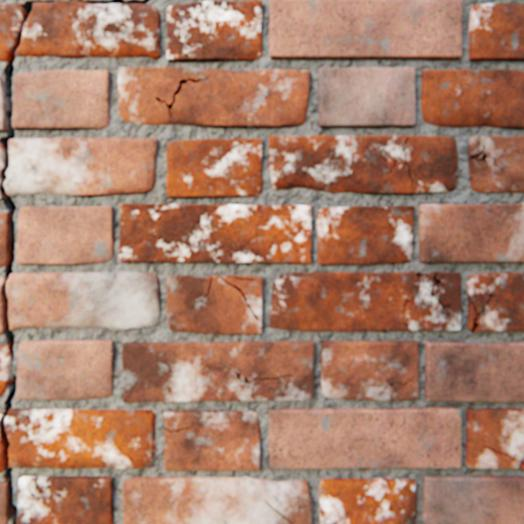brick: (123, 340, 313, 401), (269, 407, 460, 467), (269, 0, 461, 59), (270, 271, 460, 330), (119, 68, 308, 127), (120, 204, 311, 262), (268, 136, 456, 193), (123, 475, 311, 523), (418, 203, 523, 261), (420, 70, 523, 128), (424, 341, 523, 401), (320, 340, 417, 400), (17, 339, 114, 398), (164, 409, 259, 469), (318, 68, 414, 127), (13, 71, 109, 129), (167, 2, 261, 61), (316, 206, 413, 263), (17, 206, 114, 263), (167, 139, 262, 197), (167, 275, 262, 333), (422, 474, 523, 523), (17, 475, 113, 523), (319, 477, 415, 523), (465, 407, 523, 468), (466, 272, 523, 330), (467, 136, 523, 193), (468, 4, 523, 61), (0, 212, 10, 266), (0, 344, 10, 395), (0, 480, 10, 523), (0, 78, 6, 131)
broken_brick: (6, 407, 155, 467), (7, 271, 160, 329), (5, 138, 157, 195), (16, 1, 160, 59), (0, 4, 25, 62), (0, 277, 5, 333), (0, 142, 4, 185), (0, 433, 4, 471), (0, 411, 5, 419)
crack: (0, 2, 56, 523), (155, 78, 208, 117), (219, 275, 258, 319), (234, 371, 292, 388), (482, 444, 523, 467), (469, 291, 493, 330), (469, 145, 501, 172), (429, 272, 449, 313), (388, 137, 408, 172), (266, 500, 292, 522), (200, 276, 212, 301), (78, 0, 151, 4), (414, 272, 424, 296), (386, 379, 417, 385), (226, 275, 255, 280), (164, 425, 192, 430), (402, 298, 411, 309), (408, 172, 411, 185)
